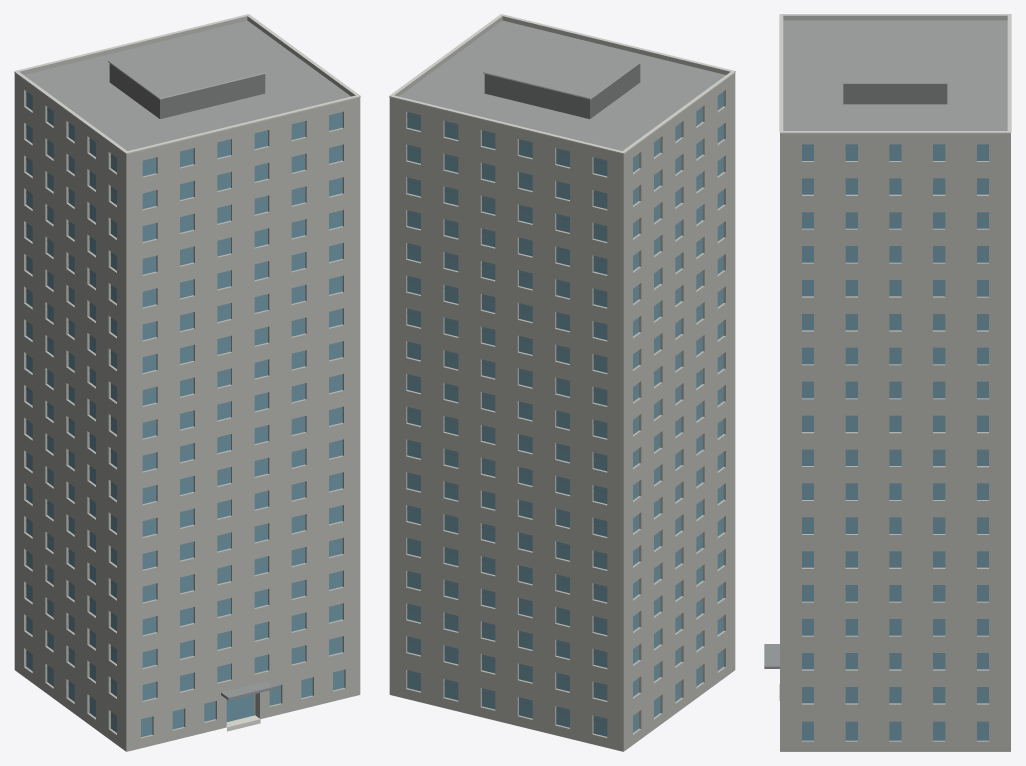
The picture shows the model from 3 angles, left to right: view 1: azimuth 30°, elevation 25°; view 2: azimuth 150°, elevation 25°; view 3: azimuth 270°, elevation 25°; orthographic projection. The views are drawn at different scales.
Visible parts, largest first — view 1: unist-batch-b307__parapet, b307__glass, b307__frame, b307__trim; view 2: unist-batch-b307__parapet, b307__glass, b307__frame, b307__trim; view 3: unist-batch-b307__parapet, b307__glass, b307__trim, b307__frame.
Boxes of the visible parts, <box> form: unist-batch-b307__parapet: <box>14,16,360,751</box>; b307__glass: <box>26,91,344,737</box>; b307__frame: <box>26,94,344,723</box>; b307__trim: <box>14,14,360,153</box>; unist-batch-b307__parapet: <box>389,16,735,751</box>; b307__glass: <box>407,91,723,736</box>; b307__frame: <box>407,94,723,723</box>; b307__trim: <box>389,14,735,153</box>; unist-batch-b307__parapet: <box>780,15,1010,751</box>; b307__glass: <box>802,144,988,740</box>; b307__trim: <box>779,14,1011,133</box>; b307__frame: <box>802,148,988,726</box>.
Bounding box in the file's own units: 25.14 × 63.35 × 22.15.
